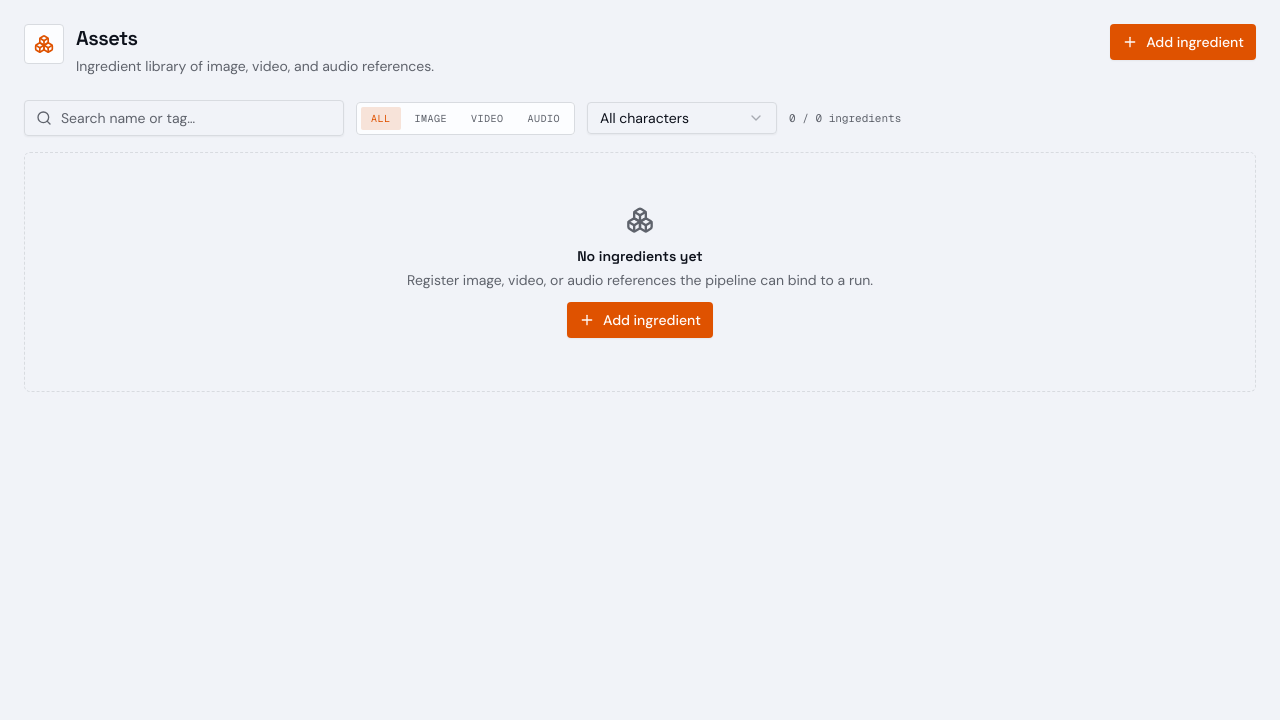
Test: AssetsPage › requires a file name and storage URL before registering
Click the button with test id "assets.upload_button": (1183, 42) [1110,24,1256,60]
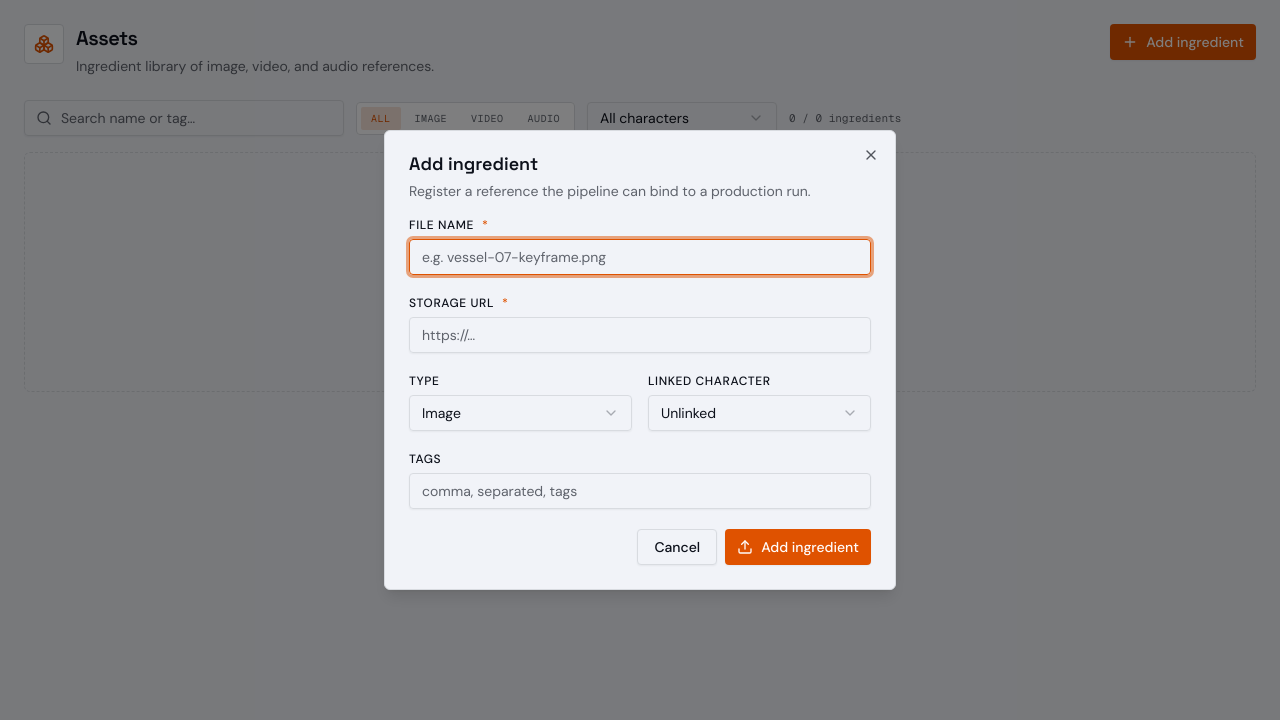
Click the button with test id "assets.submit_button": (798, 547) [725,529,871,565]
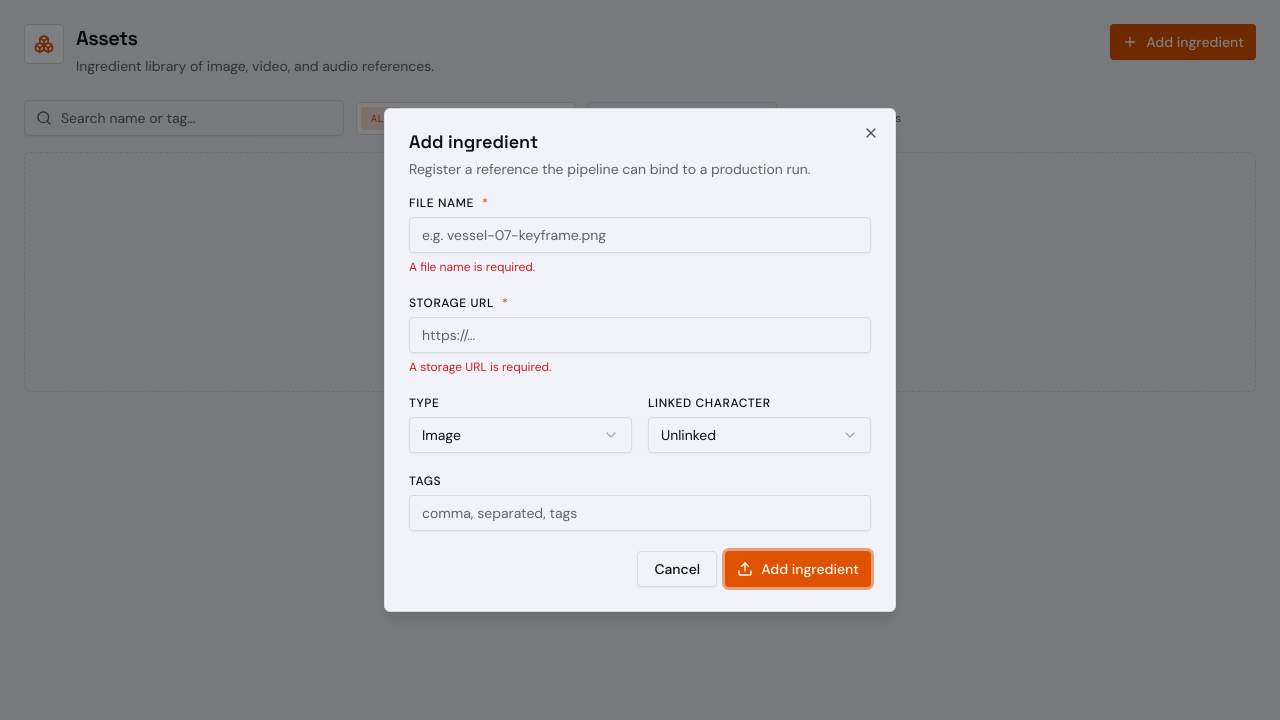
Expected: the text "A file name is required." is shown, [409,259,535,275]
Expected: the text "A storage URL is required." is shown, [409,359,552,375]
